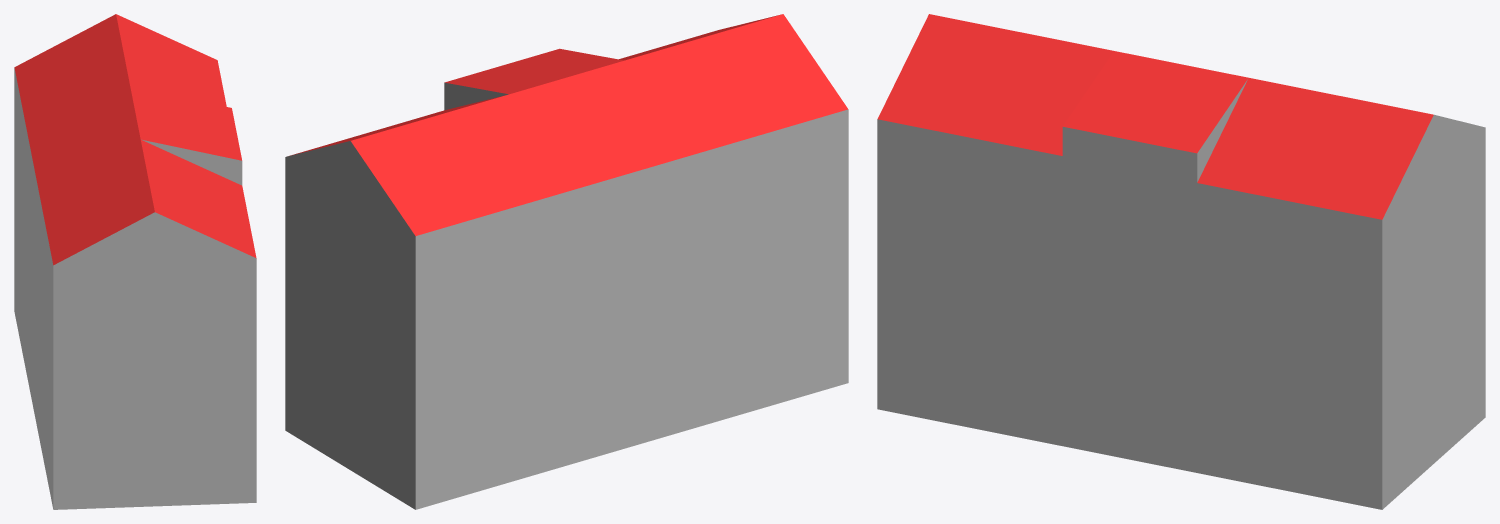
The model's file is pb-96359a13-7f36-11f0-bc8e-9c7bef4dcf4c.dae.
3 renders of one model, left to right at view 1: azimuth 30°, elevation 25°; view 2: azimuth 150°, elevation 25°; view 3: azimuth 270°, elevation 25°, orthographic. The views are drawn at different scales.
Bounding box in the file's own units: 24.56 × 32.68 × 20.7.
